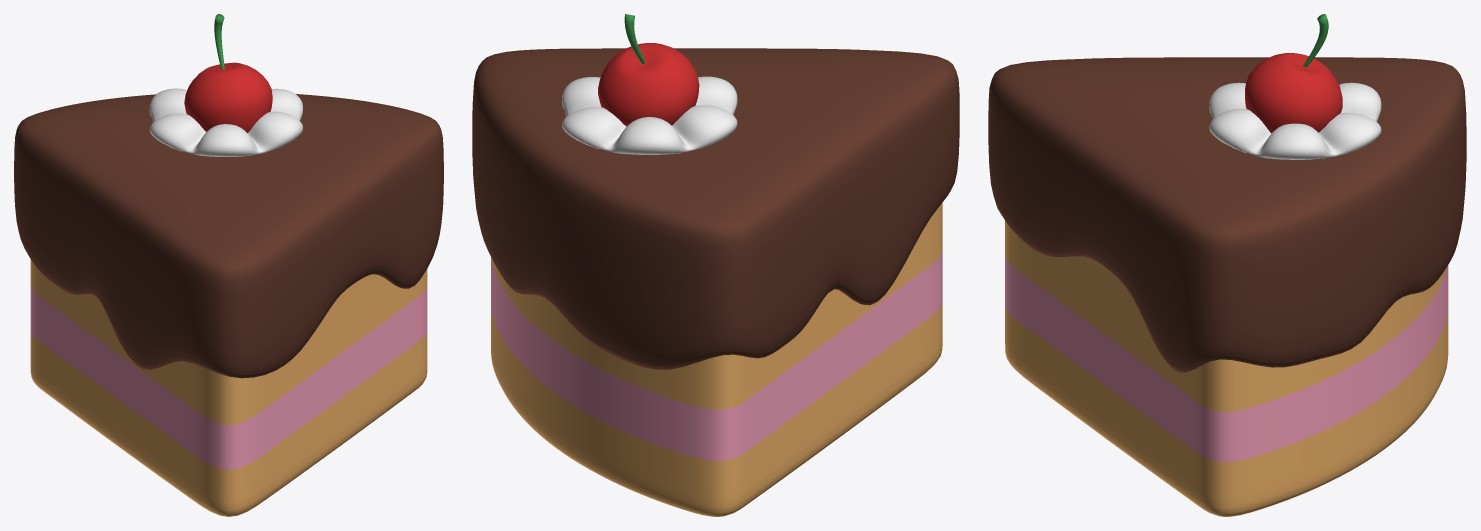
Rendered from Cake.fbx.
The picture shows the model from 3 angles, left to right: view 1: azimuth 30°, elevation 25°; view 2: azimuth 150°, elevation 25°; view 3: azimuth 270°, elevation 25°; orthographic projection. The views are drawn at different scales.
Parts seen in each view (by area): view 1: Cake, Cream, Cherry; view 2: Cake, Cream, Cherry; view 3: Cake, Cream, Cherry.
Part boxes in pixels (x1=…): Cake: x1=14, y1=94, x2=443, y2=516; Cream: x1=149, y1=88, x2=302, y2=156; Cherry: x1=184, y1=14, x2=272, y2=132; Cake: x1=472, y1=48, x2=959, y2=516; Cream: x1=562, y1=76, x2=737, y2=154; Cherry: x1=598, y1=14, x2=699, y2=126; Cake: x1=988, y1=57, x2=1466, y2=516; Cream: x1=1209, y1=82, x2=1381, y2=159; Cherry: x1=1245, y1=14, x2=1342, y2=133.
Bounding box in the file's own units: 76.87 × 82.62 × 85.19.
